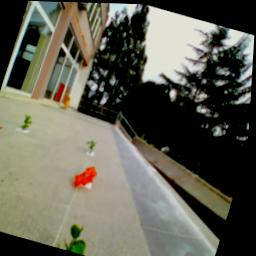herb: (64, 220, 98, 256), (22, 114, 37, 133), (87, 140, 102, 157)
wild: (73, 162, 103, 195), (1, 124, 7, 141)
